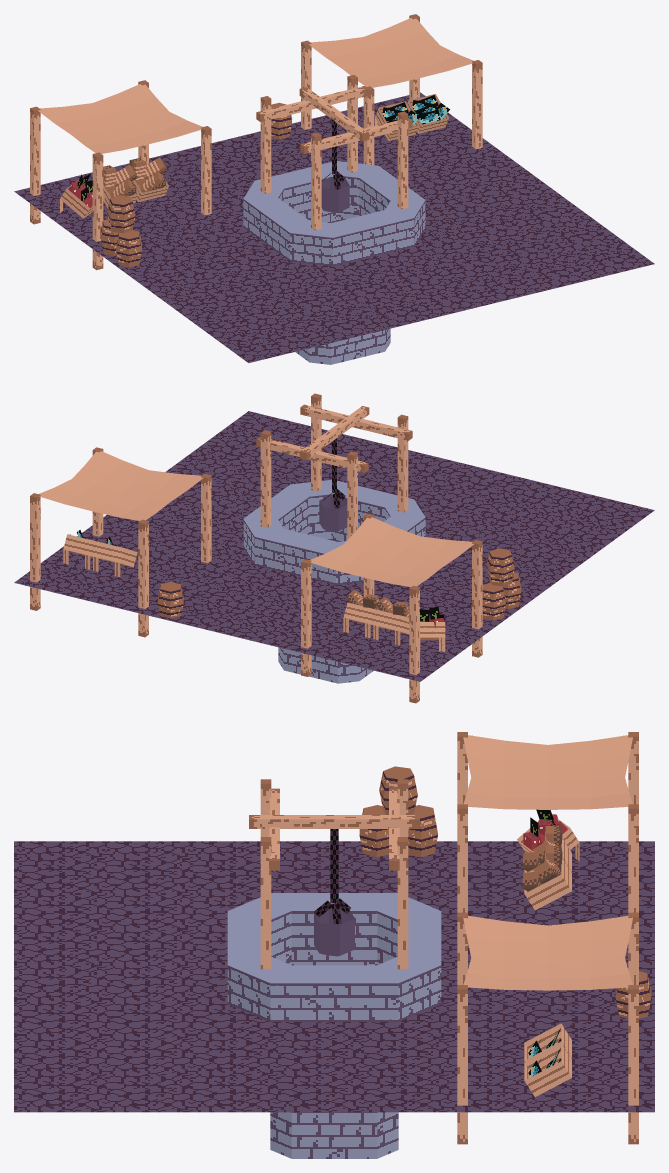
Rendered from plaza.glb.
3 renders of one model, top to bottom at view 1: azimuth 30°, elevation 25°; view 2: azimuth 150°, elevation 25°; view 3: azimuth 270°, elevation 25°, orthographic. The views are drawn at different scales.
Visible parts, largest first — view 1: plaza; view 2: plaza; view 3: plaza.
Boxes of the visible parts, bbox=[...] form: plaza: bbox=[14, 14, 654, 364]; plaza: bbox=[14, 393, 654, 703]; plaza: bbox=[14, 732, 654, 1158].
Bounding box in the file's own units: 15 × 8.3 × 15.
1 material, 1 textured.
